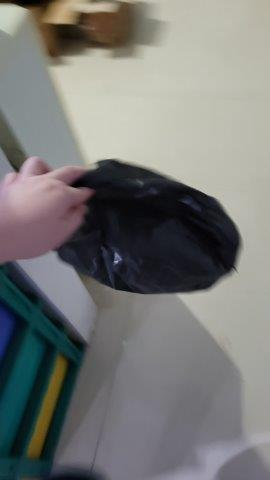plastik: (33, 156, 245, 292)
